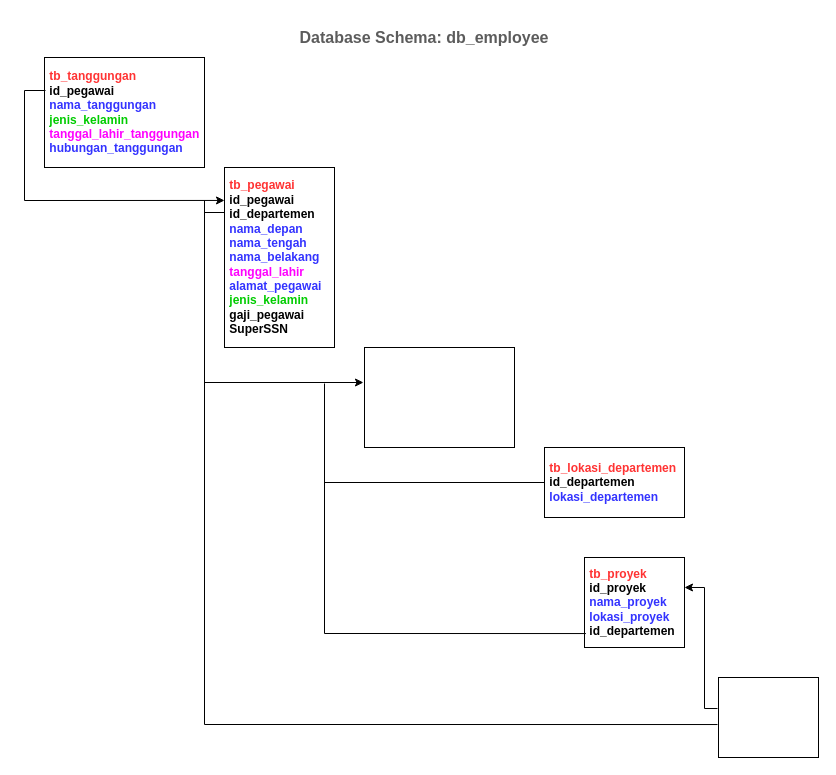
This 836x775 diagram has some shape labels left out. The centre of each missing label's shape, as x and y in pixels:
"tb_departemen id_departemen nama_departemen tanggal_mulai_manager id_manager" goes at pixel 439 397.
"tb_waktu_kerja id_proyek id_pegawai waktu_kerja" goes at pixel 768 717.
